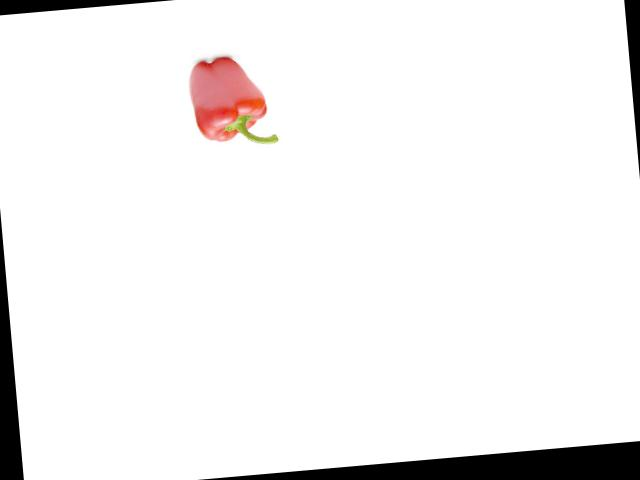bell_pepper: (182, 46, 281, 156)
